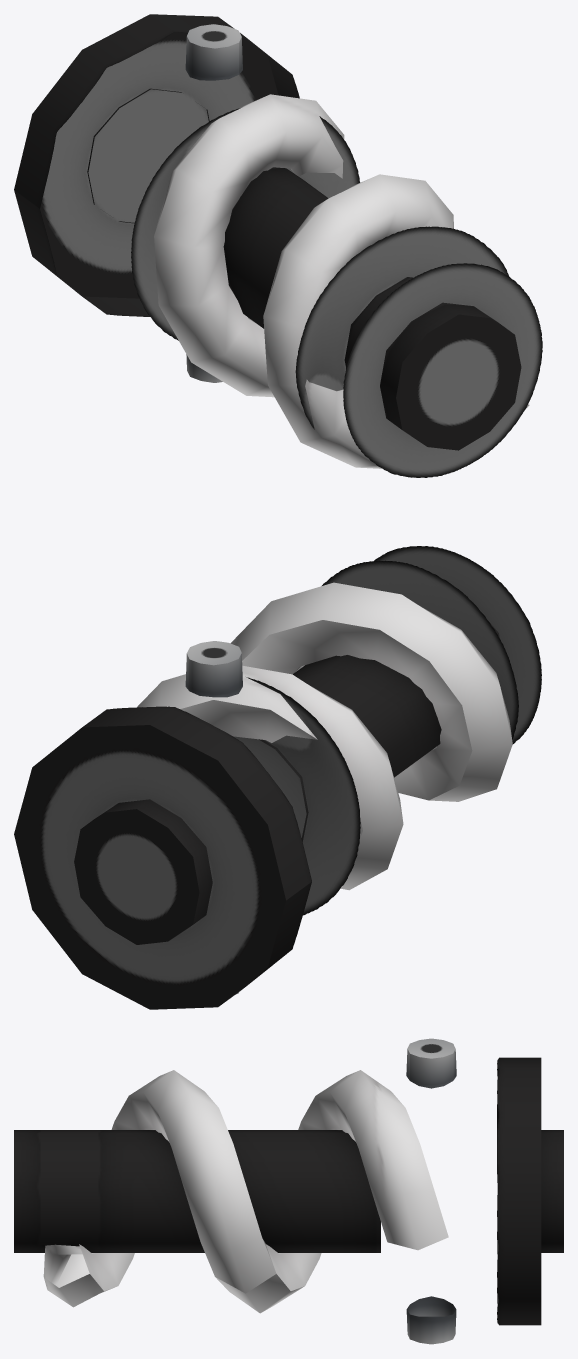
The model's file is obj_interactive_suspensionsport_03_off.fbx.
The picture shows the model from 3 angles, top to bottom: view 1: azimuth 30°, elevation 25°; view 2: azimuth 150°, elevation 25°; view 3: azimuth 270°, elevation 25°; orthographic projection. The views are drawn at different scales.
Visible parts, largest first — view 1: obj_interactive_suspensionsport_03_off; view 2: obj_interactive_suspensionsport_03_off; view 3: obj_interactive_suspensionsport_03_off.
Boxes of the visible parts, box(x1,y1,x2,y2) form: obj_interactive_suspensionsport_03_off: box(14, 14, 542, 477); obj_interactive_suspensionsport_03_off: box(14, 546, 541, 1009); obj_interactive_suspensionsport_03_off: box(14, 1038, 563, 1344).
Size of the model in its own units: 1.09 by 1.29 by 2.24.
